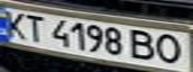1: (66, 20, 87, 51)
4: (45, 17, 72, 48)
8: (103, 25, 130, 57)
9: (84, 22, 106, 54)
B: (124, 28, 160, 62)
K: (0, 9, 30, 39)
O: (151, 32, 190, 65)
T: (21, 12, 48, 43)
